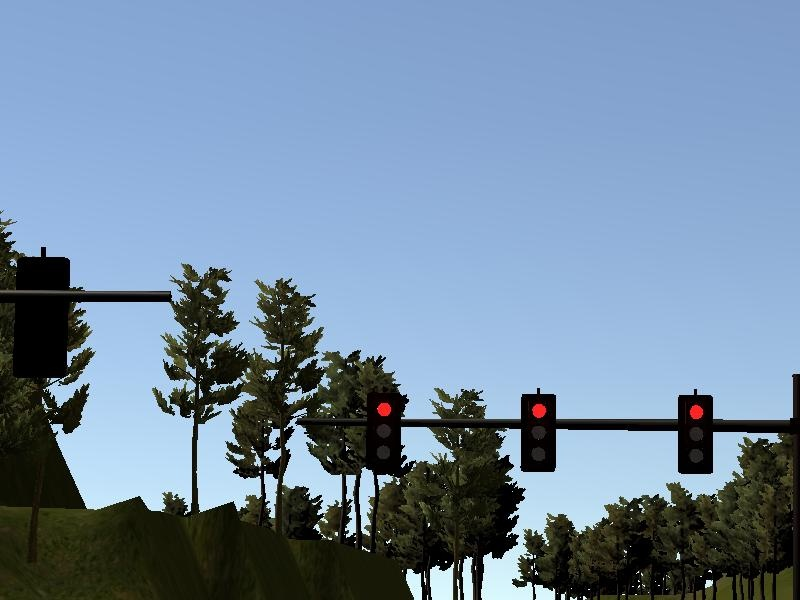red: (363, 387, 404, 476), (674, 389, 716, 475), (518, 389, 559, 475)
